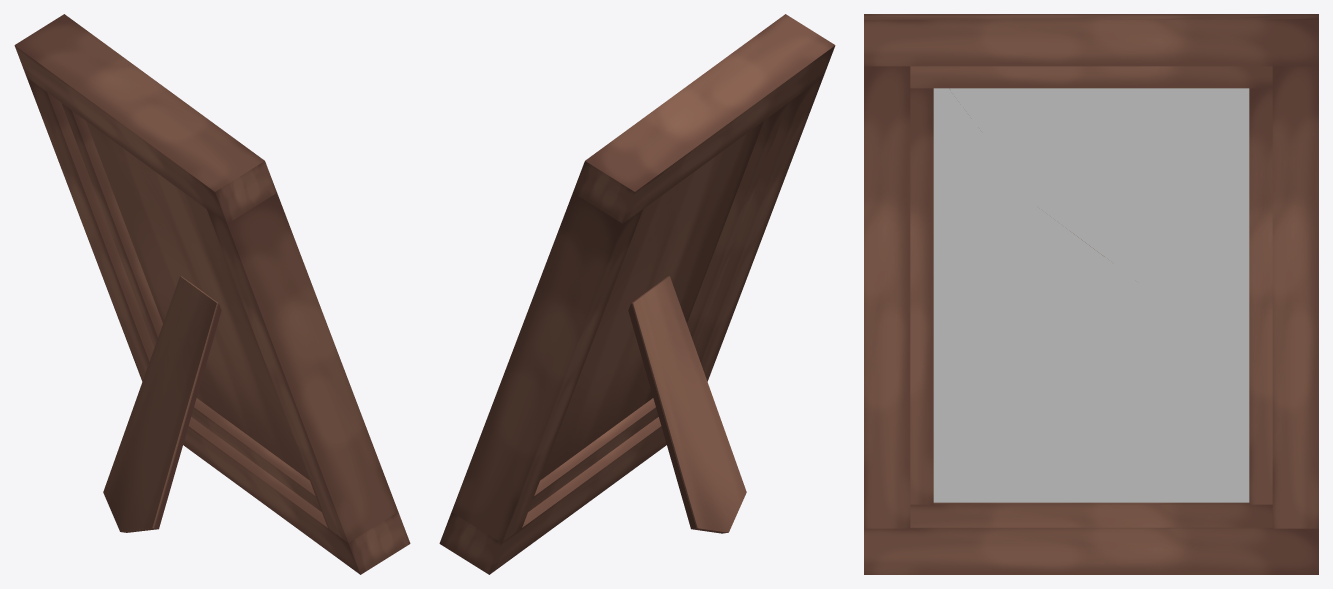
The model's file is Picture.fbx.
3 views of the same model, side by side, from view 1: azimuth 30°, elevation 25°; view 2: azimuth 150°, elevation 25°; view 3: azimuth 270°, elevation 25° (orthographic). The views are drawn at different scales.
Parts seen in each view (by area): view 1: Cube.012, Cube.014, Cube.019, Cube.010, Cube.011, Cube.013, Cube.016, Cube.018; view 2: Cube.013, Cube.014, Cube.019, Cube.010, Cube.011, Cube.012, Cube.015, Cube.018; view 3: Plane.007, Plane.006, Plane.008, Cube.014, Cube.013, Cube.012, Cube.011, Plane.005, Cube.016, Cube.015, Cube.018, Cube.017.
Boxes of the visible parts, left/top/right/bottom form: Cube.012: left=207, top=193, right=398, bottom=542; Cube.014: left=14, top=14, right=276, bottom=223; Cube.019: left=86, top=121, right=309, bottom=480; Cube.010: left=103, top=276, right=221, bottom=532; Cube.011: left=183, top=417, right=410, bottom=574; Cube.013: left=26, top=77, right=154, bottom=381; Cube.016: left=61, top=103, right=162, bottom=347; Cube.018: left=191, top=398, right=321, bottom=511; Cube.013: left=451, top=193, right=642, bottom=542; Cube.014: left=573, top=14, right=835, bottom=223; Cube.019: left=540, top=121, right=763, bottom=480; Cube.010: left=628, top=276, right=746, bottom=533; Cube.011: left=439, top=417, right=666, bottom=574; Cube.012: left=695, top=77, right=823, bottom=381; Cube.015: left=687, top=103, right=788, bottom=347; Cube.018: left=528, top=398, right=658, bottom=511; Plane.007: left=933, top=88, right=1165, bottom=467; Plane.006: left=1083, top=125, right=1249, bottom=502; Plane.008: left=949, top=88, right=1249, bottom=256; Cube.014: left=864, top=14, right=1318, bottom=66; Cube.013: left=1272, top=66, right=1318, bottom=528; Cube.012: left=864, top=66, right=910, bottom=528; Cube.011: left=864, top=527, right=1318, bottom=574; Plane.005: left=933, top=395, right=1164, bottom=502; Cube.016: left=1249, top=88, right=1272, bottom=504; Cube.015: left=910, top=88, right=933, bottom=504; Cube.018: left=910, top=502, right=1272, bottom=527; Cube.017: left=910, top=66, right=1272, bottom=88.
Size of the model in its own units: 276 by 589 by 490.
